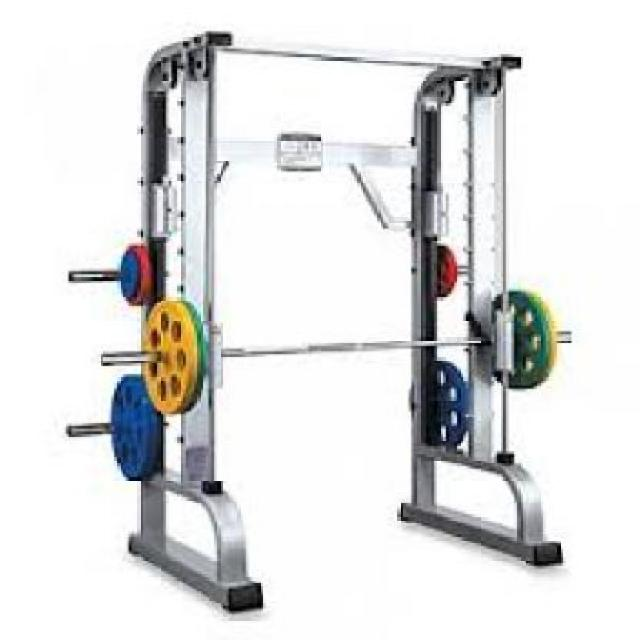smith machine: (68, 28, 574, 614)
